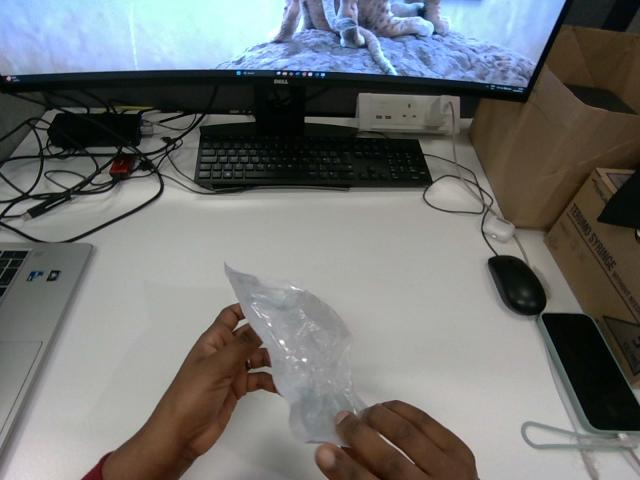gallipot: (225, 265, 365, 444)
